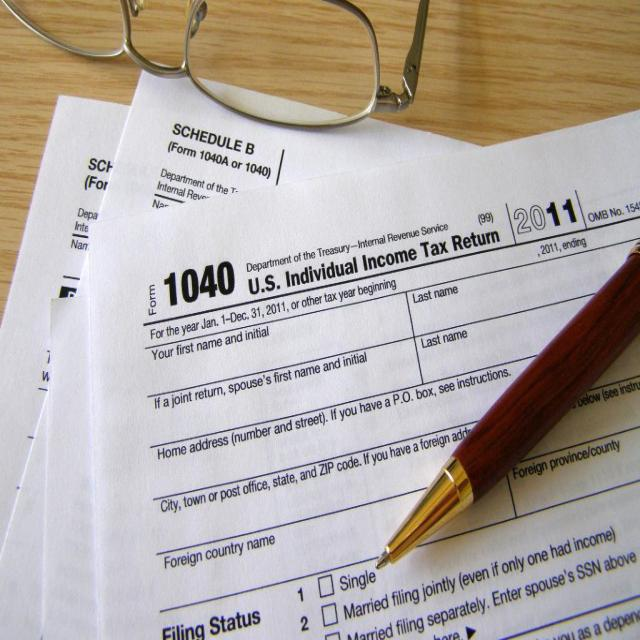pen: (375, 239, 640, 570)
